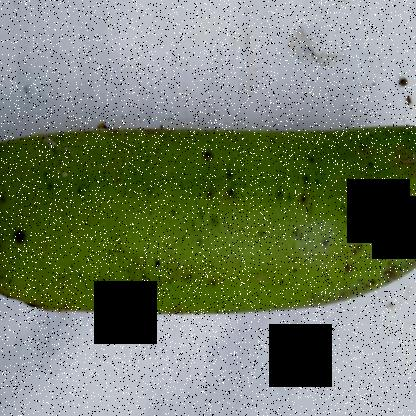unripe: (1, 87, 415, 332)
